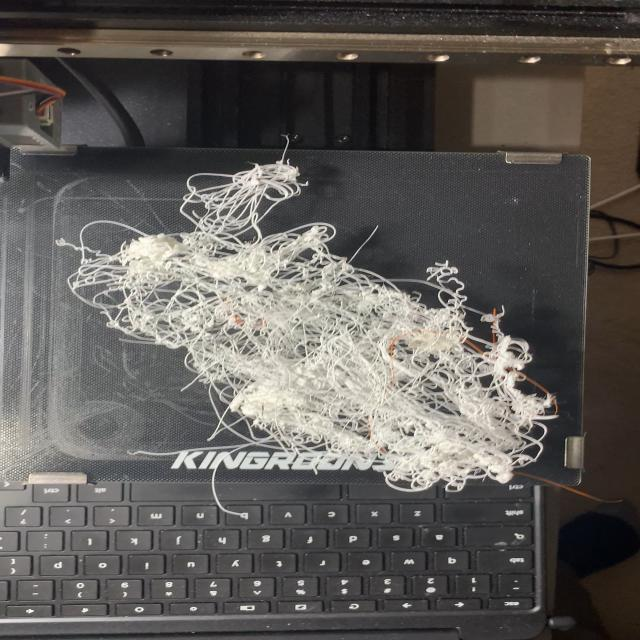spaghetti: (55, 151, 561, 493)
